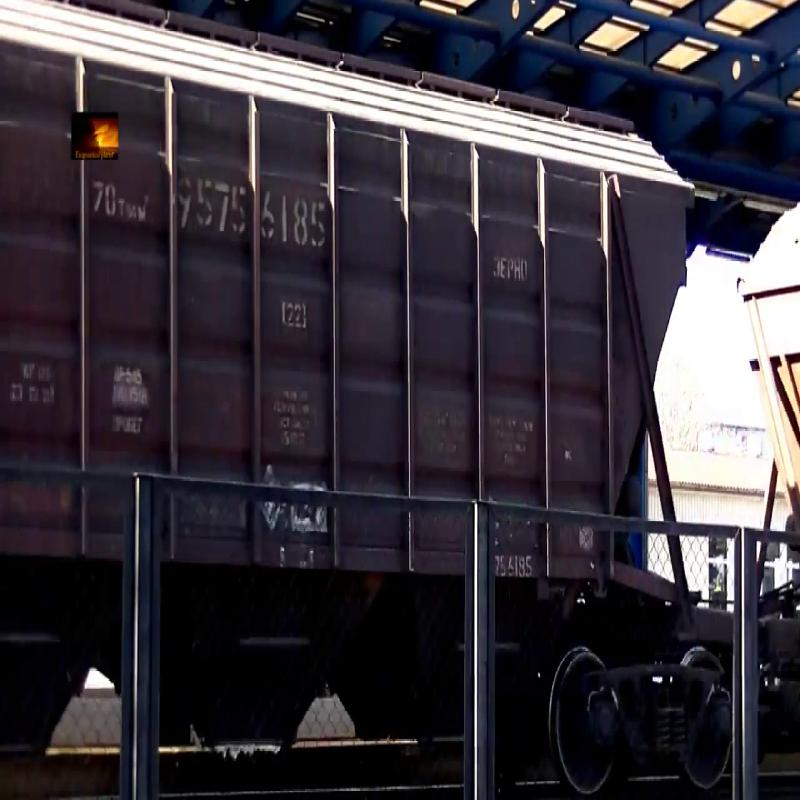train: (2, 1, 709, 779), (690, 8, 800, 777)
